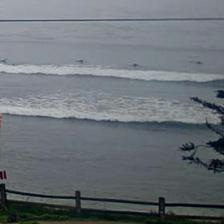surfer: (76, 59, 84, 63), (196, 61, 203, 65), (132, 64, 138, 68), (0, 57, 2, 63)
